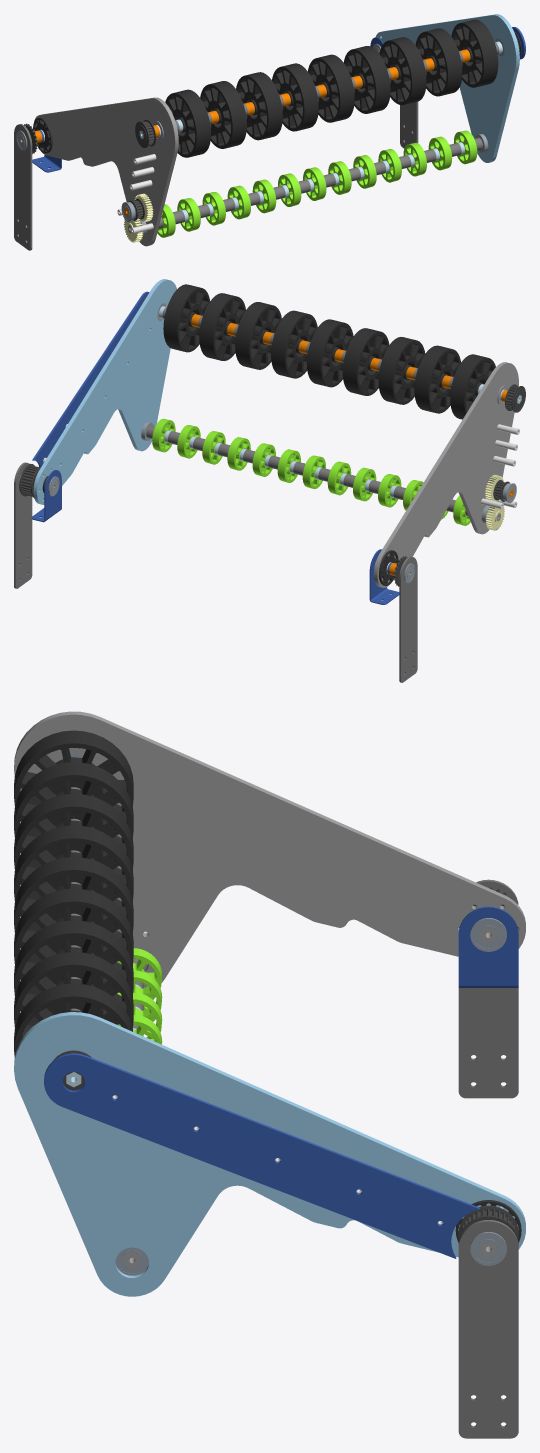
3 renders of one model, top to bottom at view 1: azimuth 30°, elevation 25°; view 2: azimuth 150°, elevation 25°; view 3: azimuth 270°, elevation 25°, orthographic. The views are drawn at different scales.
Visible parts, largest first — view 1: 4IN Compliant Wheel FINAL Overmold (×9), 5401-26-400-000 Infeed Assembly <1>, am-3462 2IN Molded 500Hex Compliant Wheel REV2 (×13), WCP-0564 Rev1, 217-2592-001 Rev7, WCP-0707 Rev1; view 2: 5401-26-400-000 Infeed Assembly <1>, 4IN Compliant Wheel FINAL Overmold (×9), am-3462 2IN Molded 500Hex Compliant Wheel REV2 (×10), WCP-0564 Rev1; view 3: 5401-26-400-000 Infeed Assembly <1>, 4IN Compliant Wheel FINAL Overmold (×9), .5" Hex ID 1.125" OD Flanged Bearing (217-2734) (×2), WCP-0993 Rev1.
Part boxes in pixels (<box>): 4IN Compliant Wheel FINAL Overmold (×9): <box>165,19,498,157</box>; 5401-26-400-000 Infeed Assembly <1>: <box>14,14,525,250</box>; am-3462 2IN Molded 500Hex Compliant Wheel REV2 (×13): <box>157,130,477,237</box>; WCP-0564 Rev1: <box>135,119,156,147</box>; 217-2592-001 Rev7: <box>33,117,52,153</box>; WCP-0707 Rev1: <box>134,193,153,222</box>; 5401-26-400-000 Infeed Assembly <1>: <box>14,279,521,682</box>; 4IN Compliant Wheel FINAL Overmold (×9): <box>163,284,495,419</box>; am-3462 2IN Molded 500Hex Compliant Wheel REV2 (×10): <box>152,418,401,507</box>; WCP-0564 Rev1: <box>505,384,525,412</box>; 5401-26-400-000 Infeed Assembly <1>: <box>14,711,525,1438</box>; 4IN Compliant Wheel FINAL Overmold (×9): <box>14,730,133,1057</box>; .5" Hex ID 1.125" OD Flanged Bearing (217-2734) (×2): <box>470,918,506,1265</box>; WCP-0993 Rev1: <box>458,1205,518,1245</box>.
Size of the model in its own units: 0.689 by 0.3785 by 0.4343.
